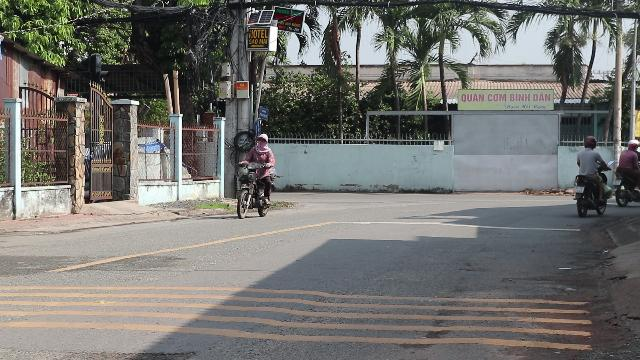motorcyclist: (232, 132, 278, 218)
nohelmet: (254, 133, 268, 147)
